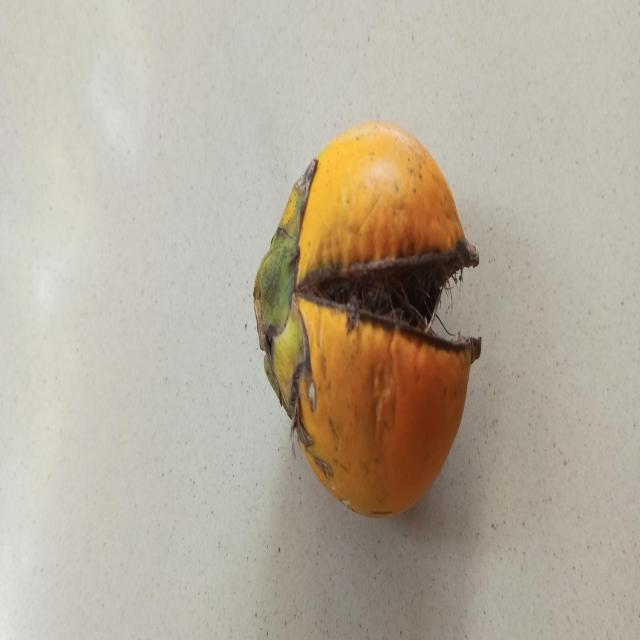damaged: (253, 122, 483, 519)
